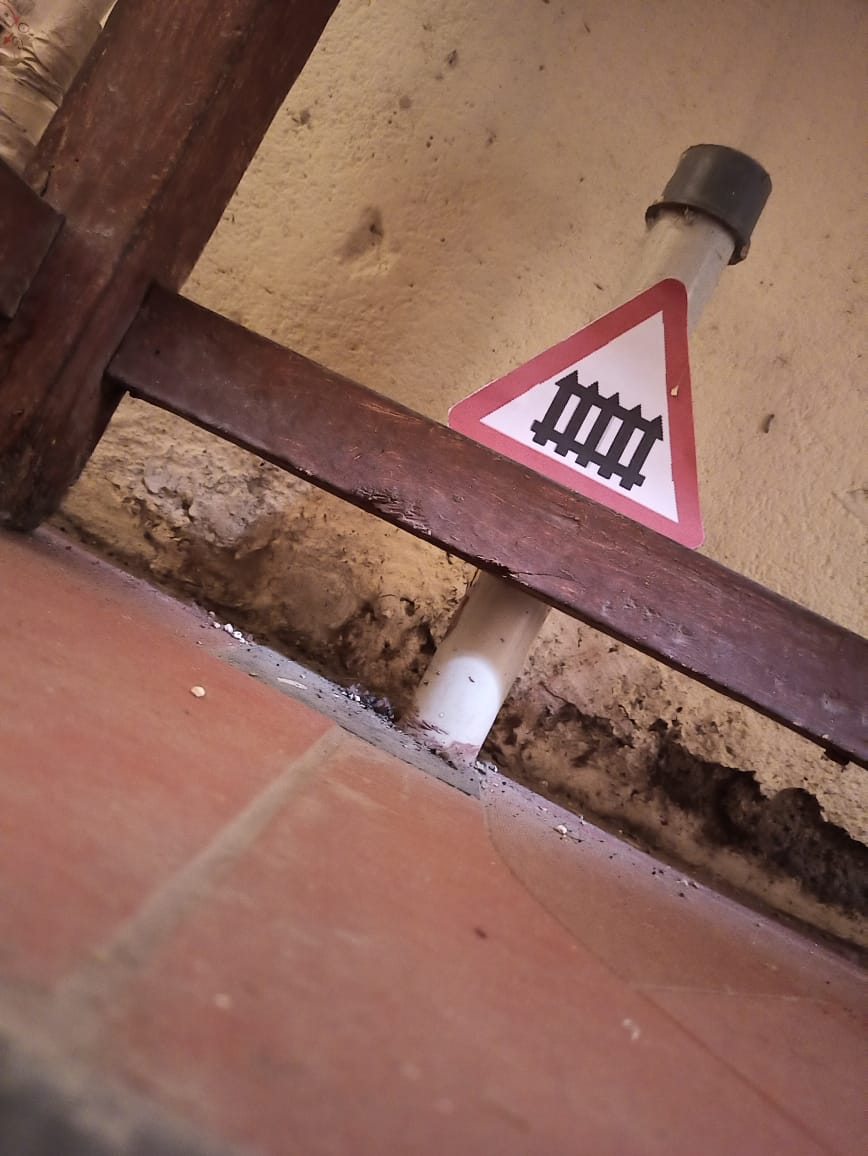GUARDED LEVEL CROSSING: (421, 250, 725, 554)
